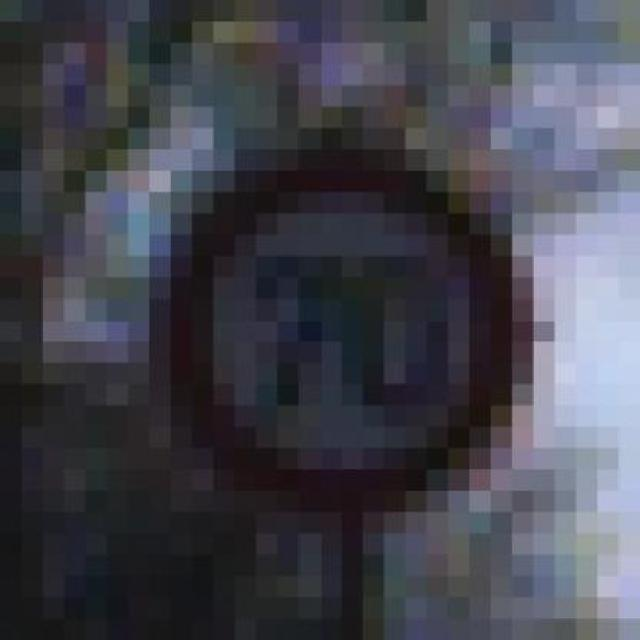forb_speed_over_70: (167, 152, 519, 512)
